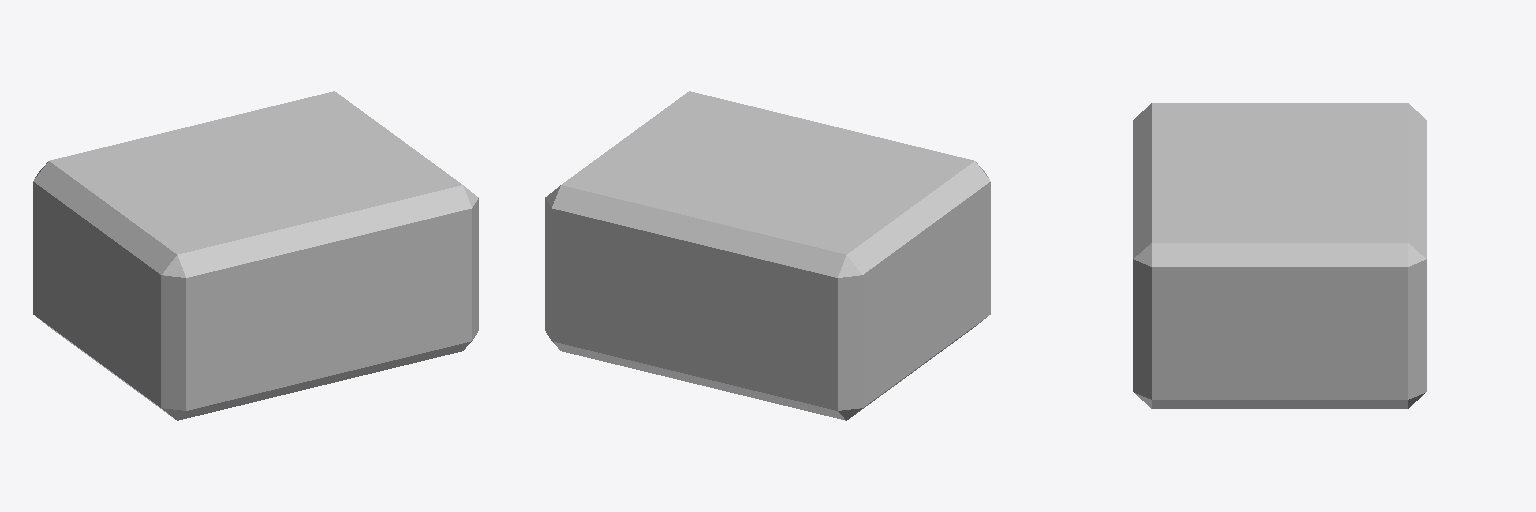
File: carton_box.obj
The picture shows the model from 3 angles: view 1: azimuth 30°, elevation 25°; view 2: azimuth 150°, elevation 25°; view 3: azimuth 270°, elevation 25°; orthographic projection.
Visible parts, largest first — view 1: carton_box; view 2: carton_box; view 3: carton_box.
Boxes of the visible parts, x1,y1,x2,y2 form: carton_box: [33, 91, 478, 420]; carton_box: [545, 91, 990, 420]; carton_box: [1133, 103, 1426, 408].
Bounding box in the file's own units: 1 × 0.5 × 0.8.